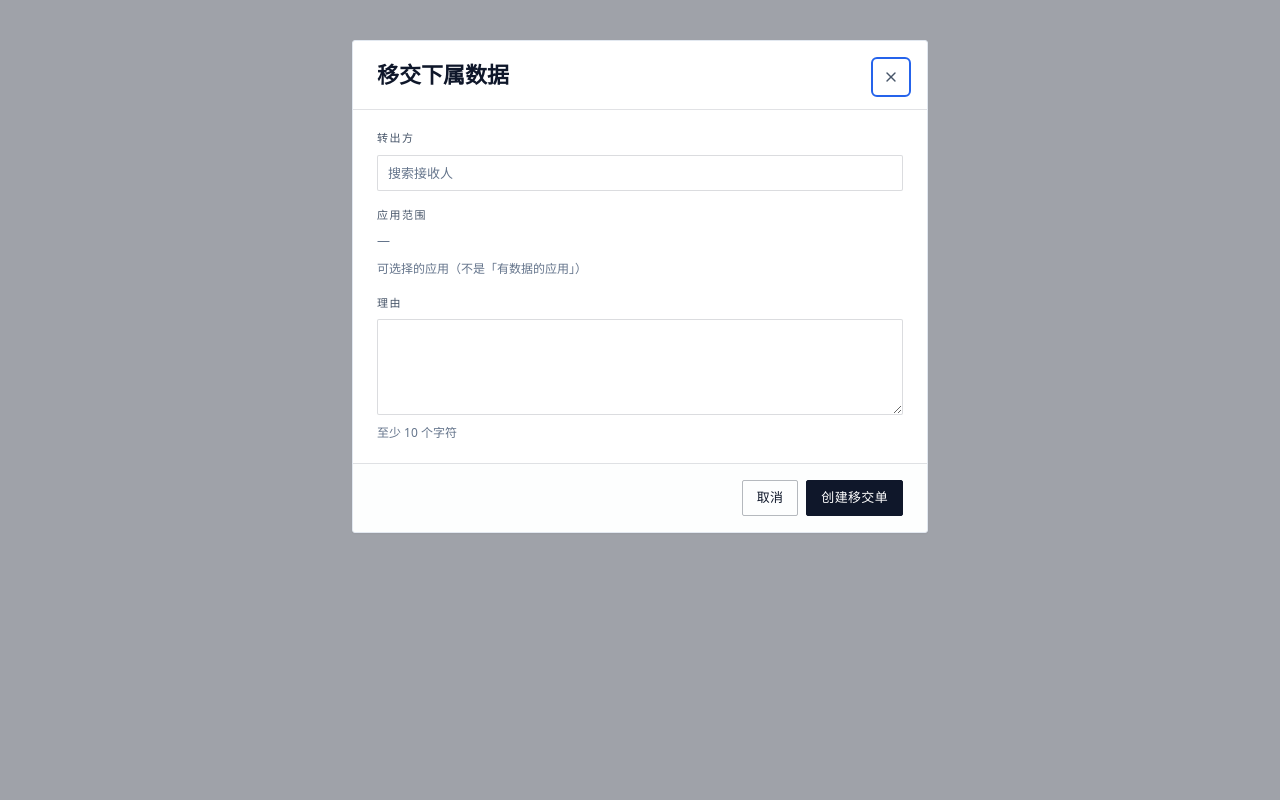
Test: PortalReassignDialog › 理由 <10 字符不可提交；403 文案
Click the dropdown named "转出方".
click(640, 172)  # box left=377, top=154, right=903, bottom=190
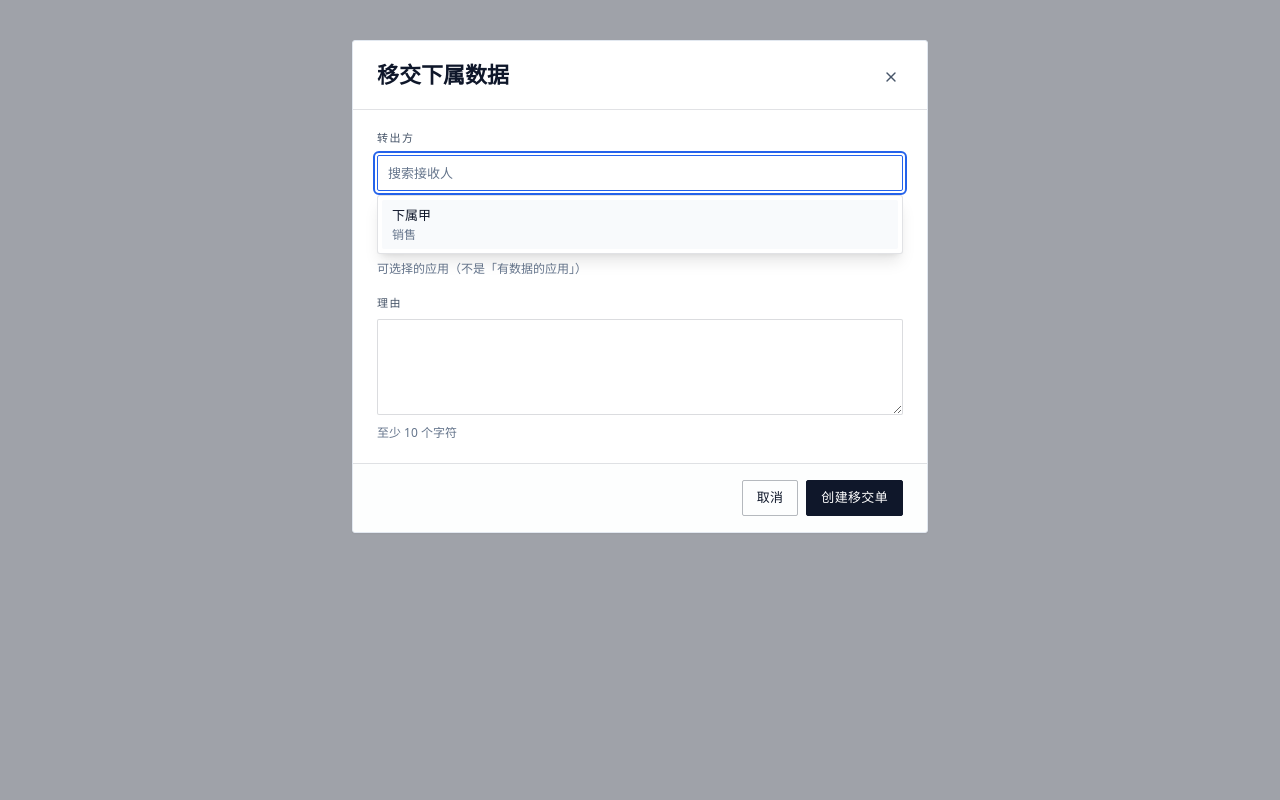
Click the option "下属甲 销售".
click(412, 214)  # box left=382, top=200, right=898, bottom=249
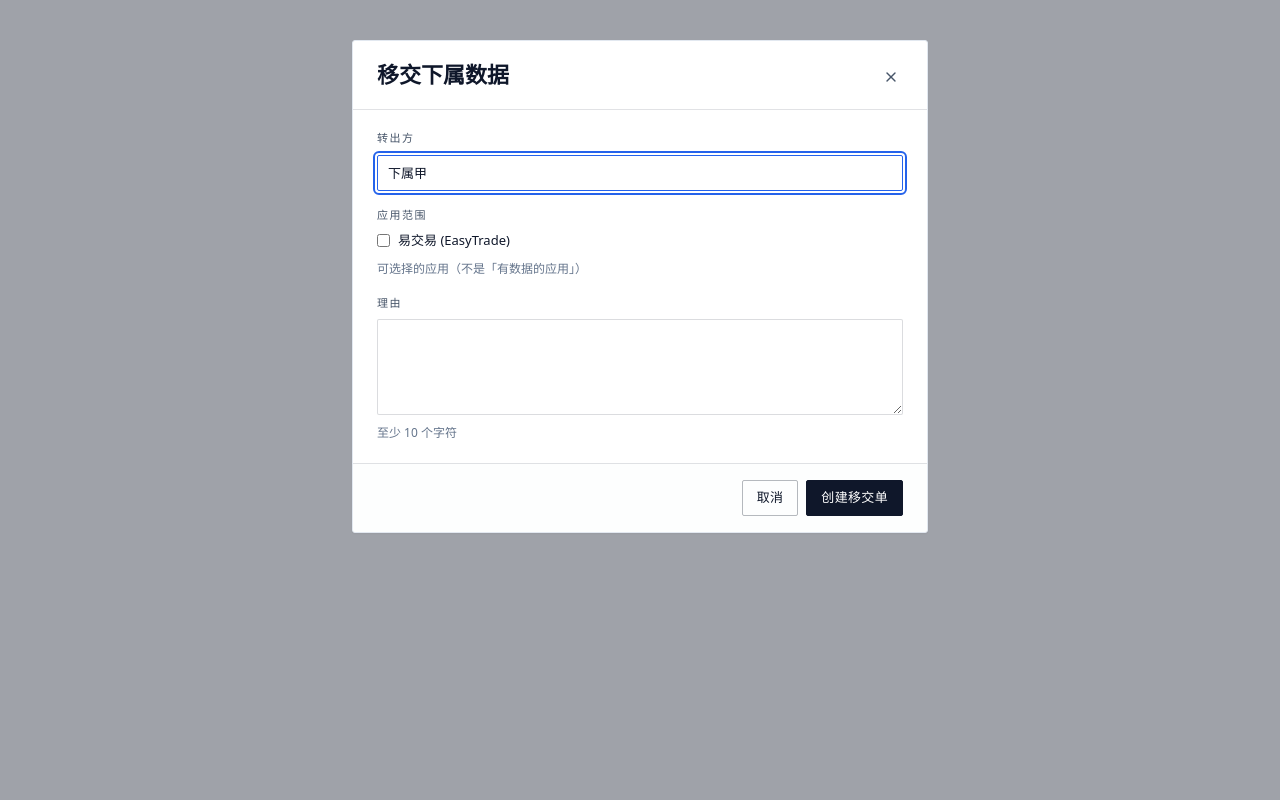
Click the checkbox labelled "易交易 (EasyTrade)".
click(384, 241)  # box left=377, top=234, right=390, bottom=247
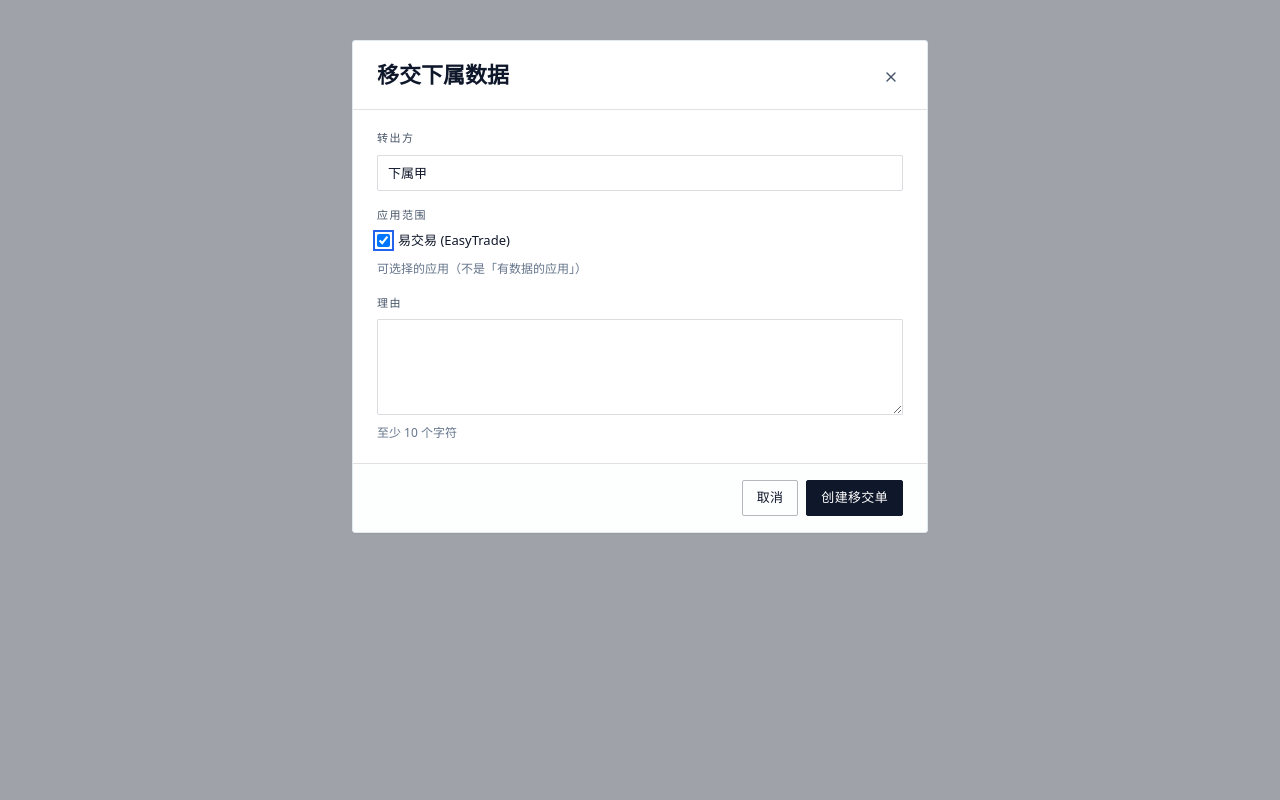
Type "太短了" into the text box labelled "理由".
click(640, 367); type("太短了")  # box left=377, top=319, right=903, bottom=415
Click the button "创建移交单".
click(855, 498)  # box left=806, top=480, right=903, bottom=516
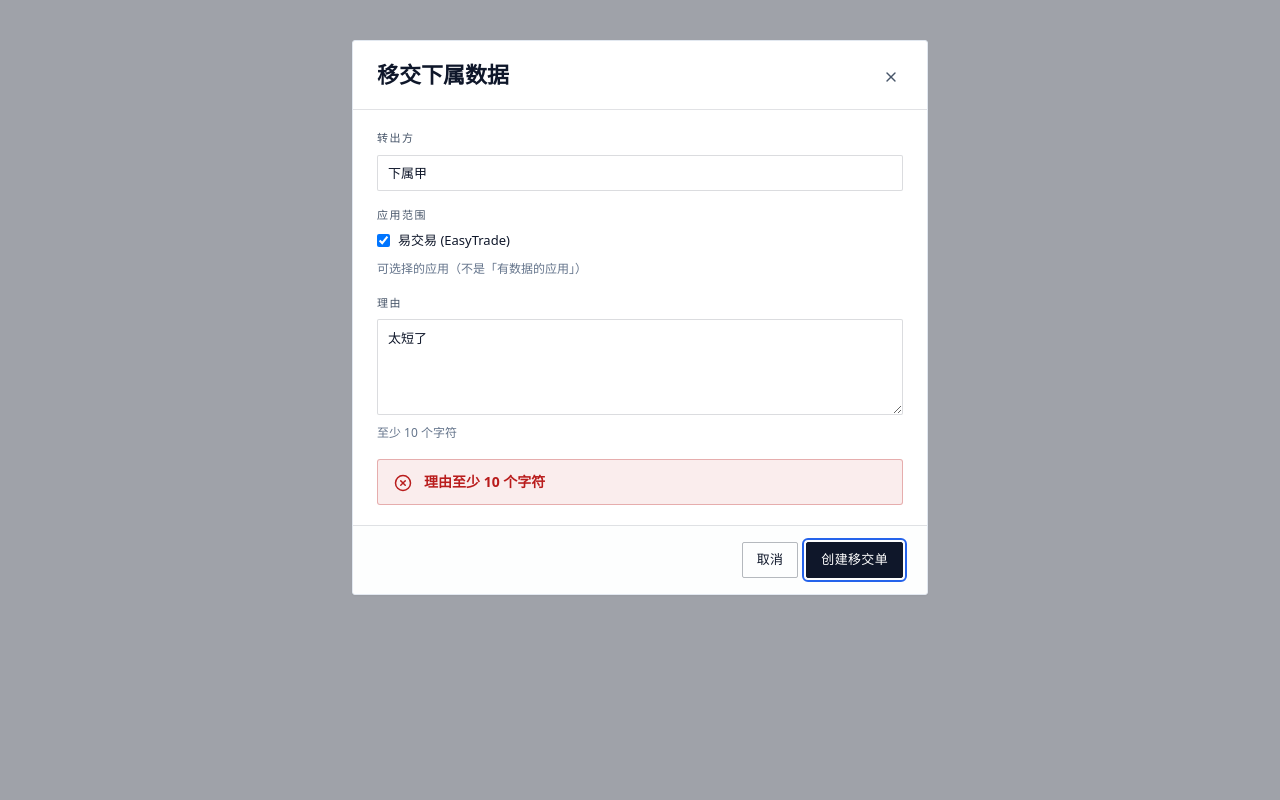
Now the text "理由至少 10 个字符" is shown, box left=424, top=472, right=545, bottom=492
Replace the text in the text box labelled "理由" with "这是足够长的移交理由说明" at (640, 367), box left=377, top=319, right=903, bottom=415
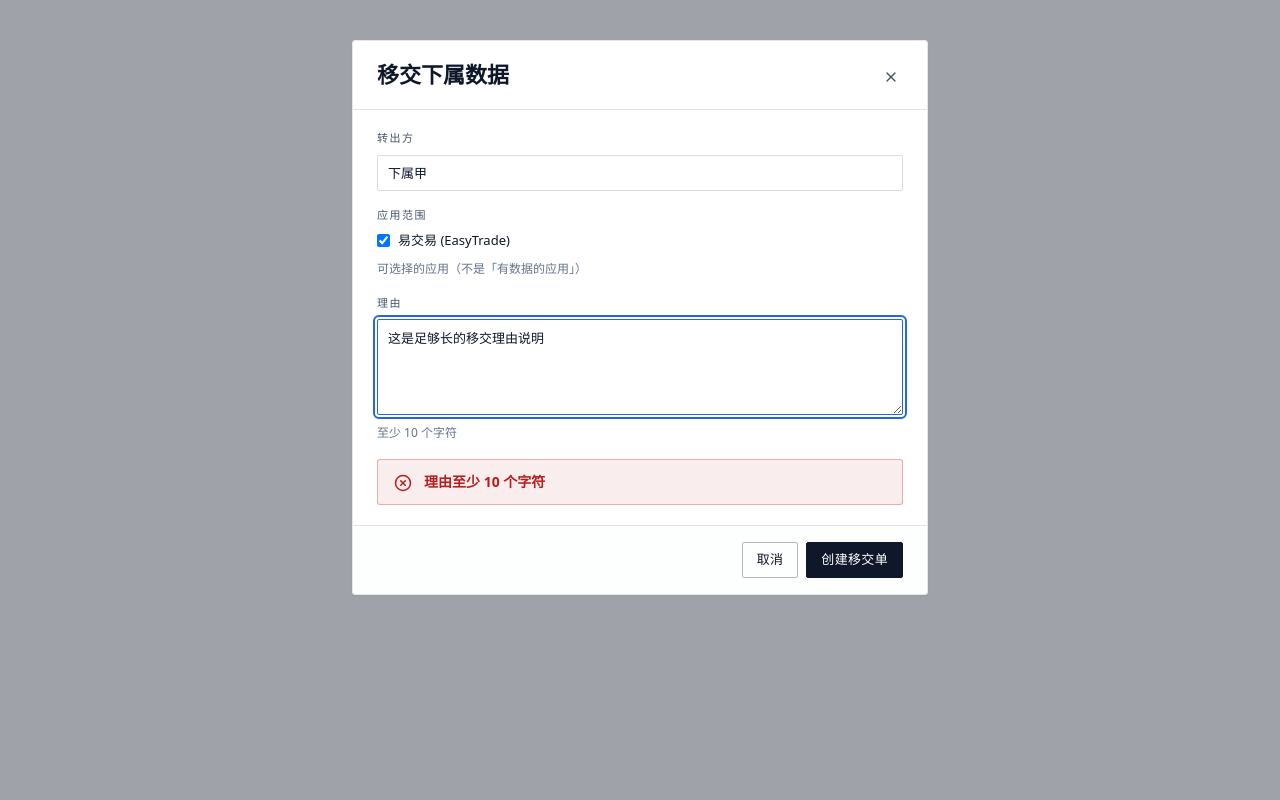
Click the button "创建移交单".
click(855, 560)  # box left=806, top=542, right=903, bottom=578
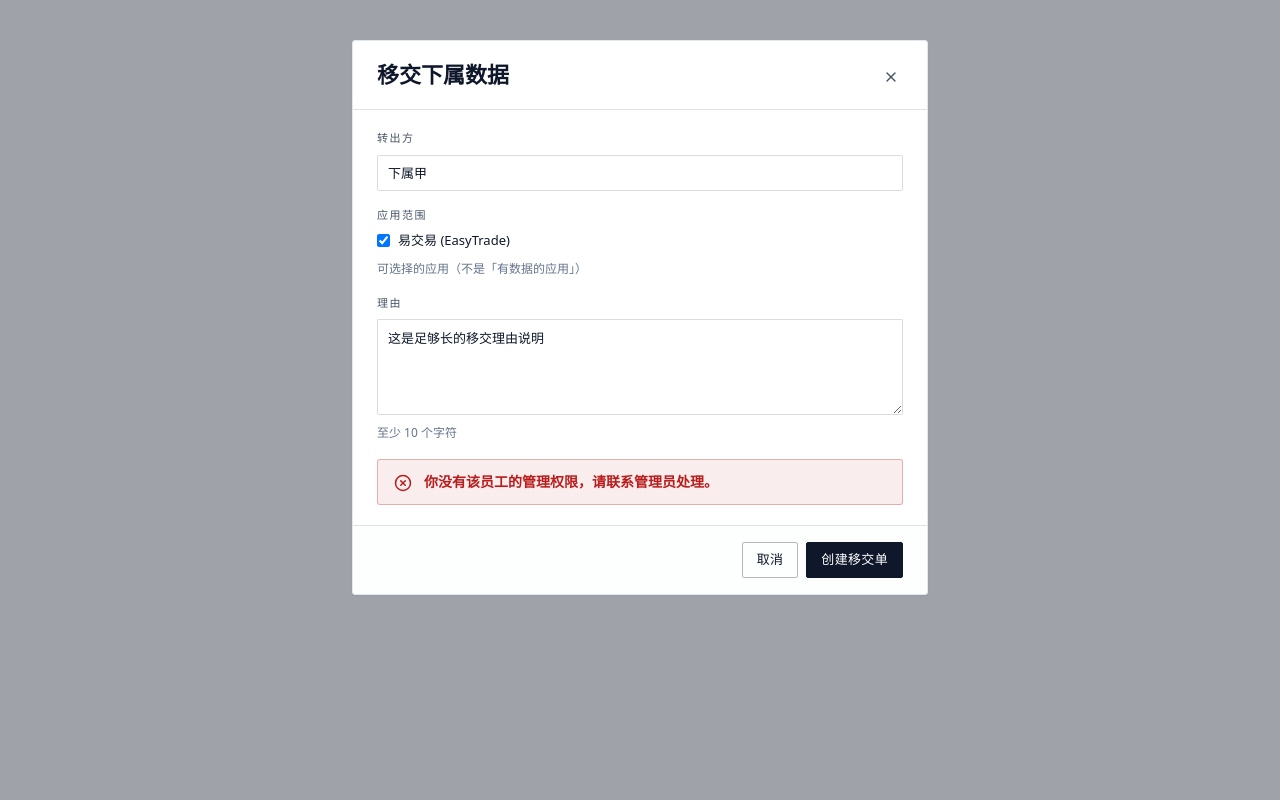
Now the text "你没有该员工的管理权限，请联系管理员处理。" is shown, box left=424, top=472, right=718, bottom=492
